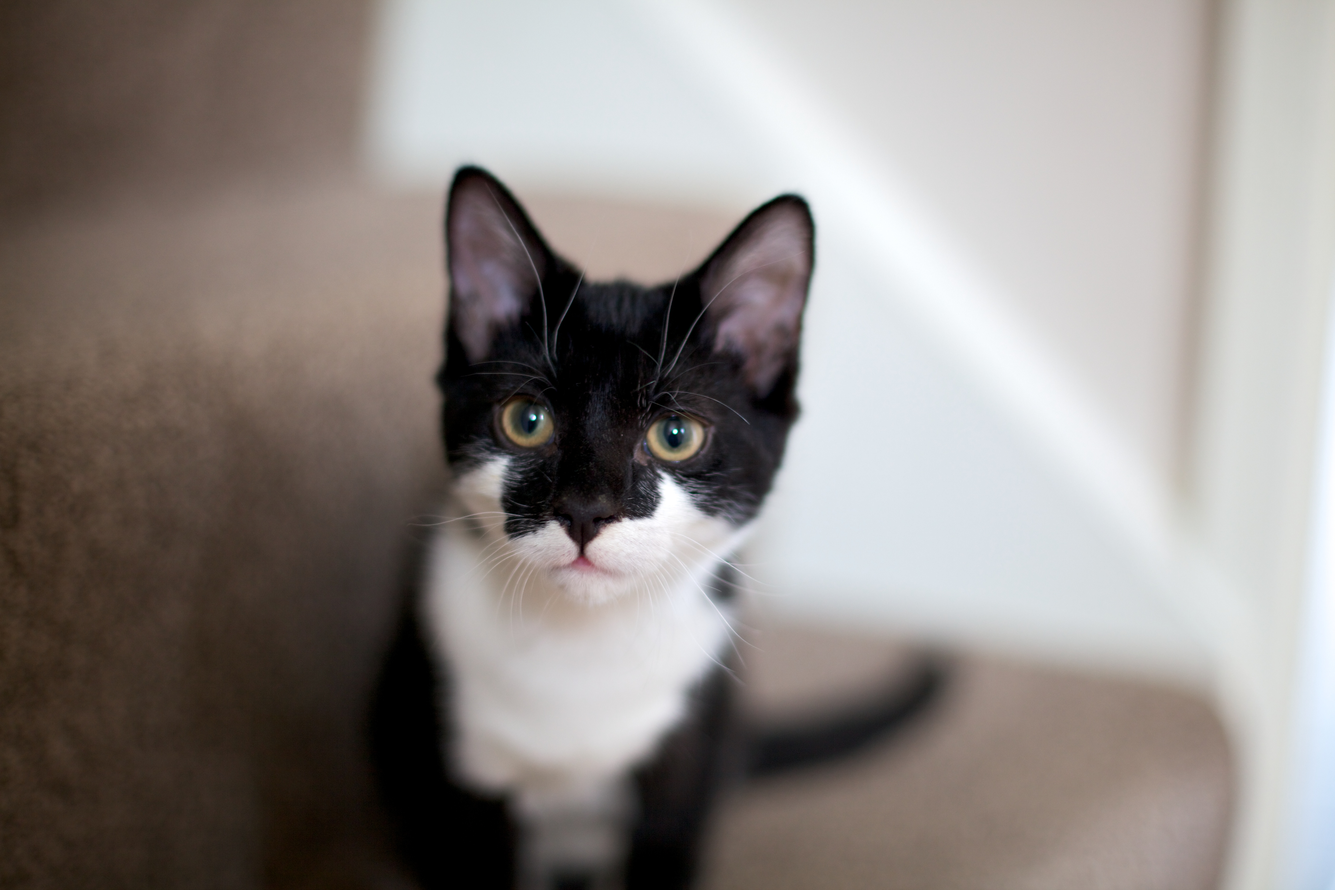cat: (350, 154, 971, 889)
